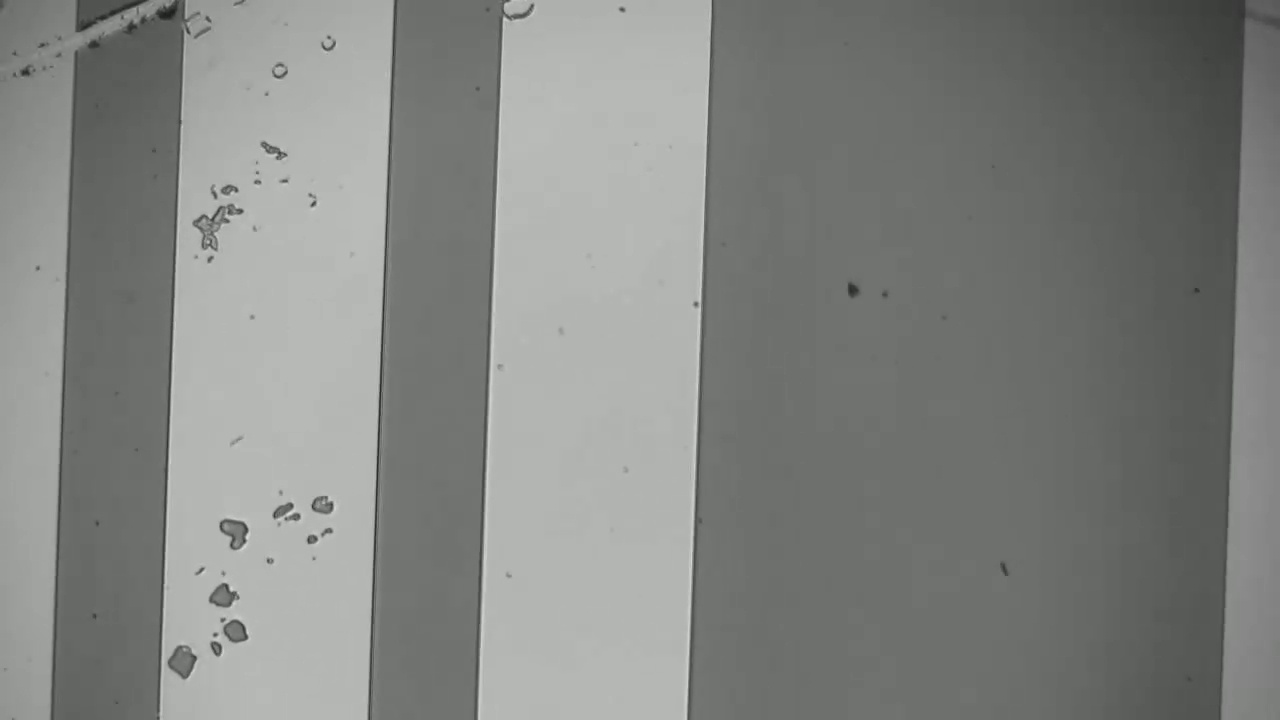Short_circuit: (20, 1, 204, 110)
